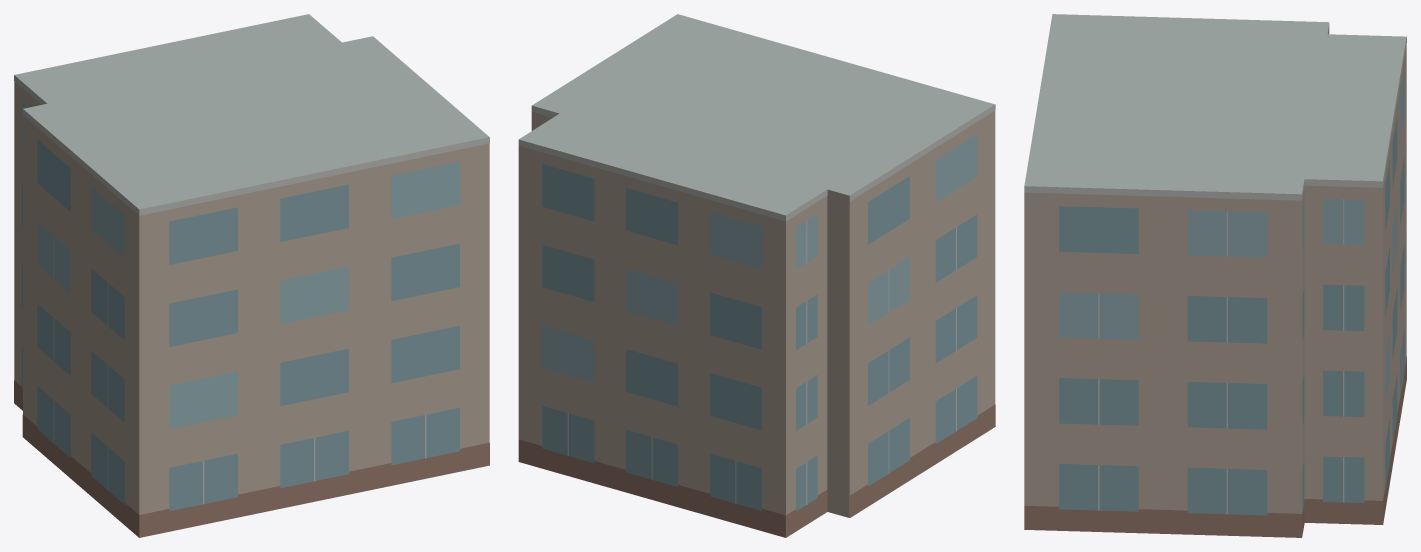
Rendered from survey-upis-32837655.glb.
The picture shows the model from 3 angles, left to right: view 1: azimuth 30°, elevation 25°; view 2: azimuth 150°, elevation 25°; view 3: azimuth 270°, elevation 25°; orthographic projection. The views are drawn at different scales.
Visible parts, largest first — view 1: survey-upis-32837655.tmp; view 2: survey-upis-32837655.tmp; view 3: survey-upis-32837655.tmp.
Boxes of the visible parts, bbox=[...] form: survey-upis-32837655.tmp: bbox=[14, 14, 489, 537]; survey-upis-32837655.tmp: bbox=[518, 14, 995, 537]; survey-upis-32837655.tmp: bbox=[1024, 14, 1406, 537].
Size of the model in its own units: 14.63 by 13 by 13.12.
